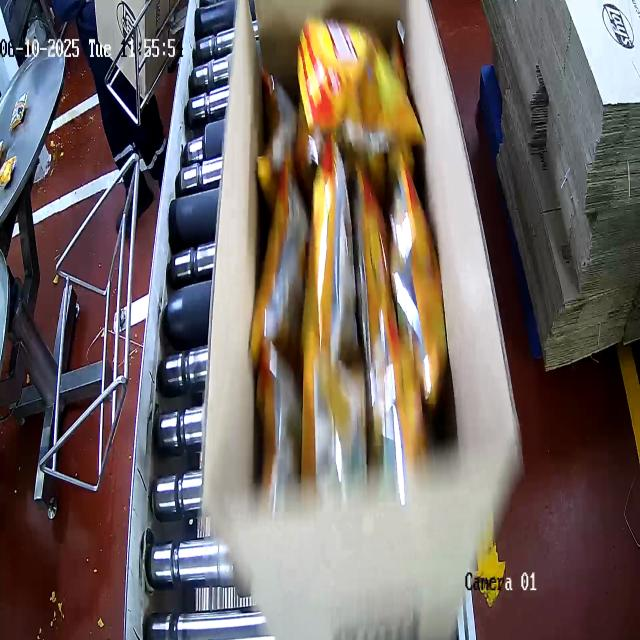FRENCH_CHEESE: (250, 24, 448, 483)
